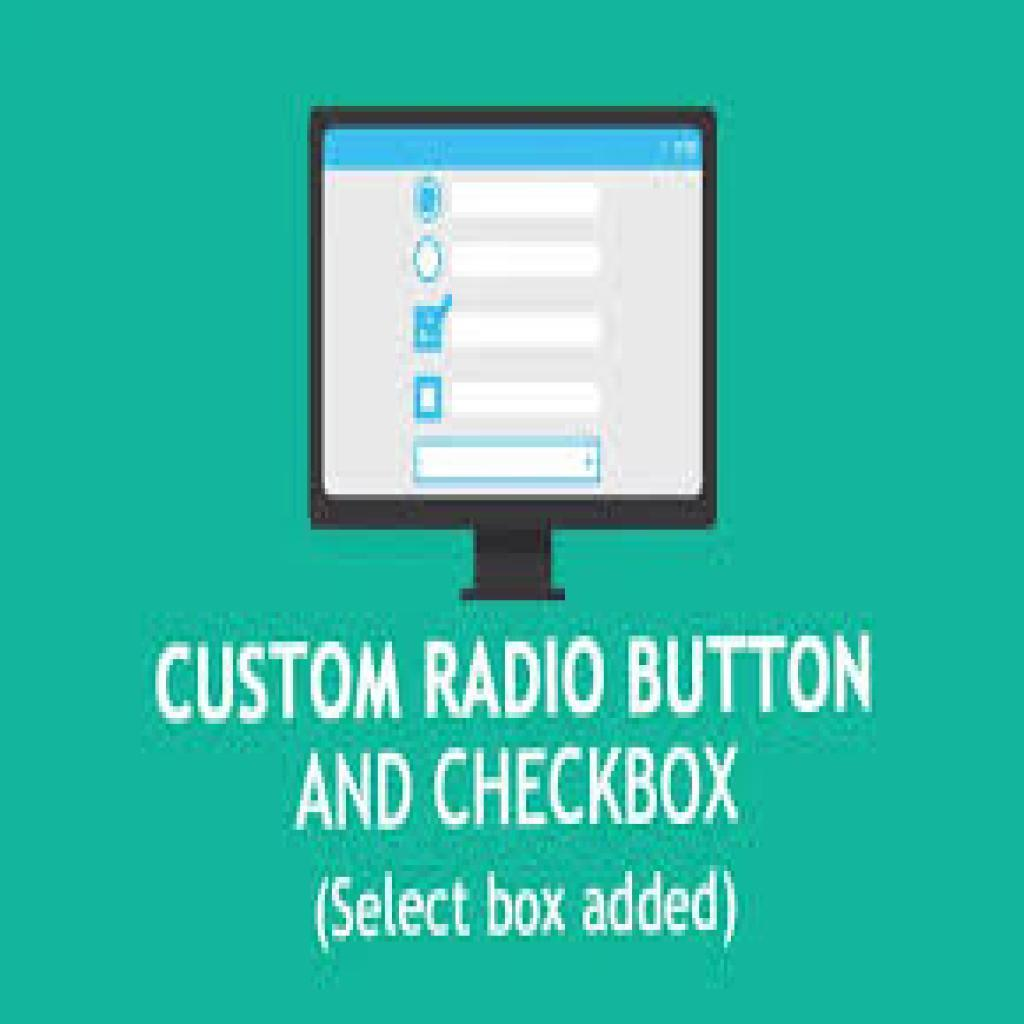checkbox: (412, 299, 448, 353), (411, 378, 443, 421)
radio: (409, 175, 446, 226), (409, 232, 446, 282)
